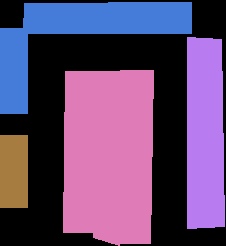parkingspot: (187, 37, 224, 228), (117, 70, 153, 243), (63, 71, 97, 232), (92, 71, 123, 245), (23, 2, 191, 33), (0, 28, 27, 113), (0, 135, 27, 207)
